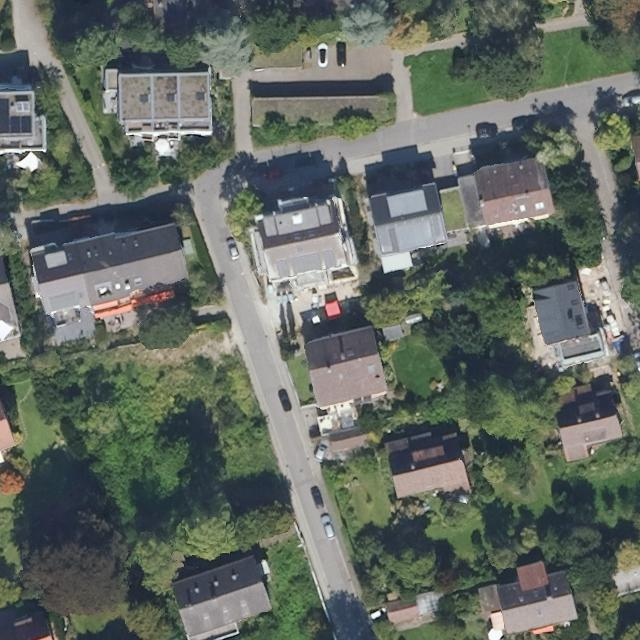PV: (0, 97, 33, 135)
